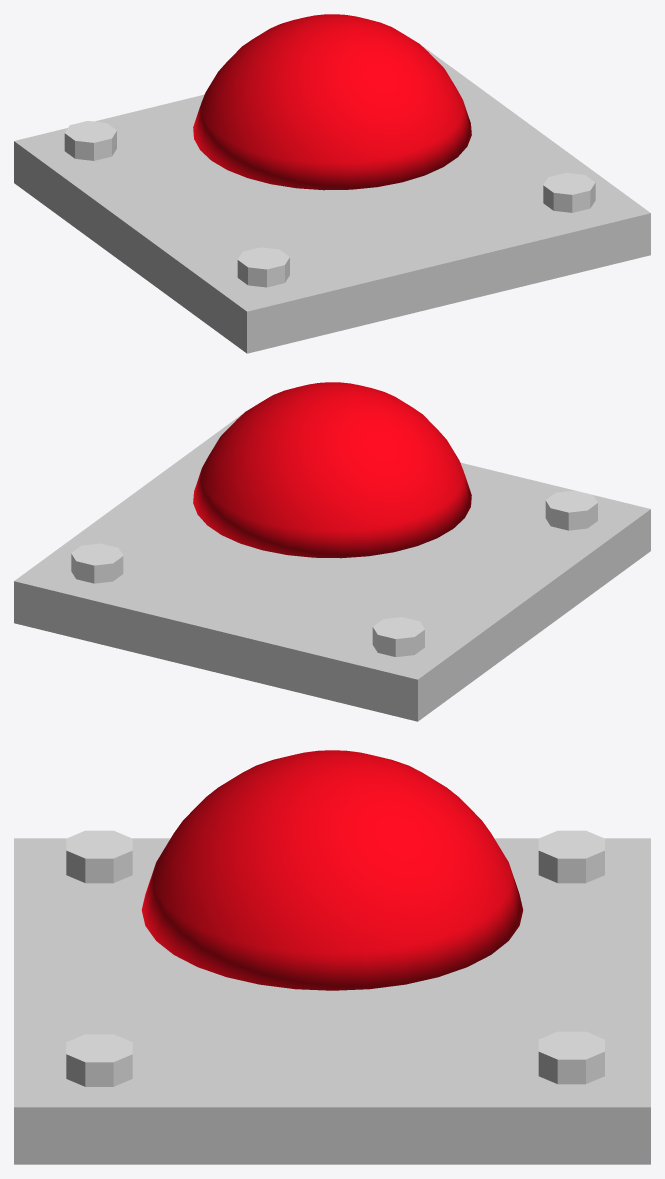
The model's file is buton.fbx.
3 renders of one model, top to bottom at view 1: azimuth 30°, elevation 25°; view 2: azimuth 150°, elevation 25°; view 3: azimuth 270°, elevation 25°, orthographic. The views are drawn at different scales.
Parts seen in each view (by area): view 1: Cube, Cylinder, Cube.001; view 2: Cube, Cylinder, Cube.001; view 3: Cube, Cylinder, Cube.001.
Boxes of the visible parts, x1,y1,x2,y2 form: Cube: (14, 44, 650, 353); Cylinder: (193, 14, 471, 190); Cube.001: (64, 121, 595, 287); Cube: (14, 412, 650, 721); Cylinder: (193, 382, 471, 558); Cube.001: (71, 490, 597, 656); Cube: (14, 838, 650, 1164); Cylinder: (141, 750, 523, 990); Cube.001: (66, 830, 604, 1086).
Size of the model in its own units: 200 by 90.76 by 200.
